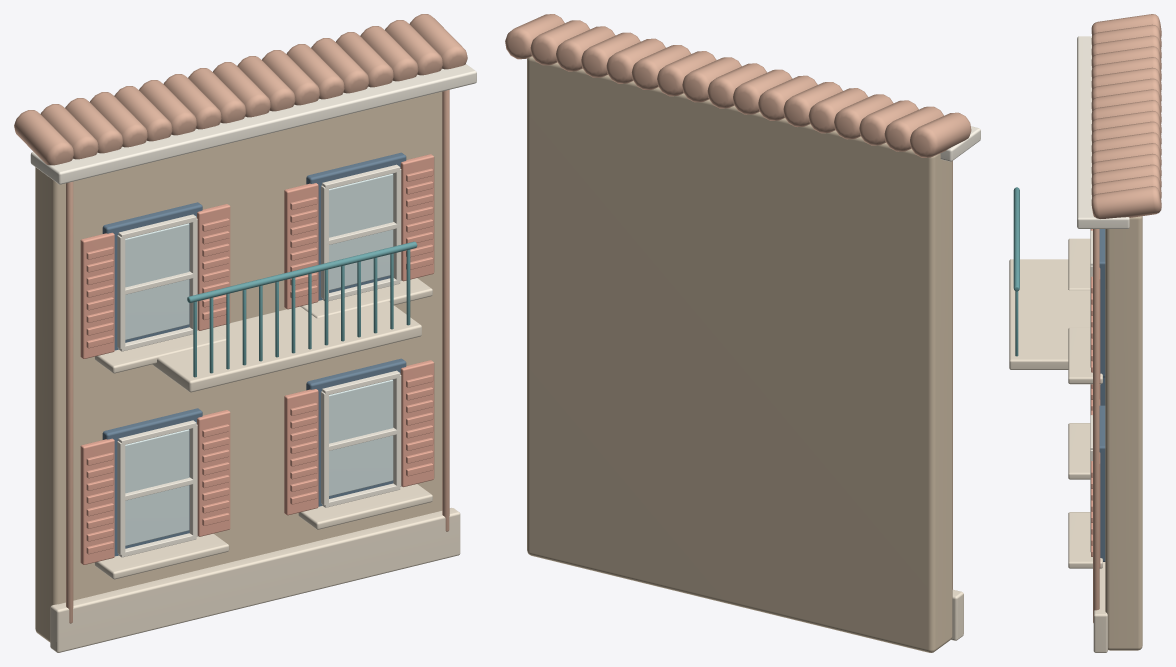
File: Facade_2.fbx
3 views of the same model, side by side, from view 1: azimuth 30°, elevation 25°; view 2: azimuth 150°, elevation 25°; view 3: azimuth 270°, elevation 25° (orthographic). The views are drawn at different scales.
Visible parts, largest first — view 1: Plaster, StoneFoot, BalconyFloor, Cornice, Glass, Glass.002, Glass.001, Glass.003, RainPipe.001, RainPipe, Shutter.004, Shutter (+40 smaller); view 2: Plaster, RoofTile, RoofTile.008, RoofTile.013, RoofTile.014, RoofTile.002, RoofTile.015, RoofTile.003, RoofTile.007, RoofTile.009, RoofTile.010, RoofTile.001 (+6 smaller); view 3: Plaster, BalconyFloor, Cornice, RainPipe.001, RoofTile.016, Sill.003, Sill.002, Sill, Sill.001, WindowRecess.002, StoneFoot, WindowRecess.003 (+18 smaller).
Part boxes in pixels (left/top/right/bottom): Plaster: left=35, top=91, right=442, bottom=642; StoneFoot: left=50, top=508, right=460, bottom=652; BalconyFloor: left=152, top=301, right=421, bottom=392; Cornice: left=30, top=64, right=476, bottom=184; Glass: left=125, top=429, right=189, bottom=545; Glass.002: left=329, top=379, right=393, bottom=496; Glass.001: left=125, top=223, right=189, bottom=339; Glass.003: left=329, top=173, right=393, bottom=290; RainPipe.001: left=442, top=90, right=449, bottom=531; RainPipe: left=66, top=181, right=73, bottom=623; Shutter.004: left=284, top=389, right=318, bottom=515; Shutter: left=80, top=438, right=114, bottom=564; Plaster: left=527, top=56, right=952, bottom=652; RoofTile: left=910, top=112, right=971, bottom=157; RoofTile.008: left=707, top=63, right=766, bottom=108; RoofTile.013: left=581, top=32, right=640, bottom=77; RoofTile.014: left=556, top=26, right=615, bottom=71; RoofTile.002: left=859, top=100, right=918, bottom=145; RoofTile.015: left=530, top=20, right=589, bottom=65; RoofTile.003: left=834, top=94, right=893, bottom=139; RoofTile.007: left=733, top=69, right=792, bottom=114; RoofTile.009: left=682, top=57, right=741, bottom=102; RoofTile.010: left=657, top=51, right=716, bottom=96; RoofTile.001: left=884, top=106, right=943, bottom=151; Plaster: left=1105, top=216, right=1142, bottom=650; BalconyFloor: left=1009, top=259, right=1090, bottom=369; Cornice: left=1077, top=36, right=1129, bottom=228; RainPipe.001: left=1093, top=229, right=1099, bottom=622; RoofTile.016: left=1091, top=186, right=1161, bottom=218; Sill.003: left=1068, top=327, right=1102, bottom=384; Sill.002: left=1068, top=512, right=1102, bottom=568; Sill: left=1068, top=423, right=1090, bottom=479; Sill.001: left=1068, top=238, right=1090, bottom=290; WindowRecess.002: left=1099, top=405, right=1105, bottom=561; StoneFoot: left=1093, top=562, right=1107, bottom=652; WindowRecess.003: left=1099, top=229, right=1105, bottom=377.
Bounding box in the file's own units: 488 × 574 × 171.
